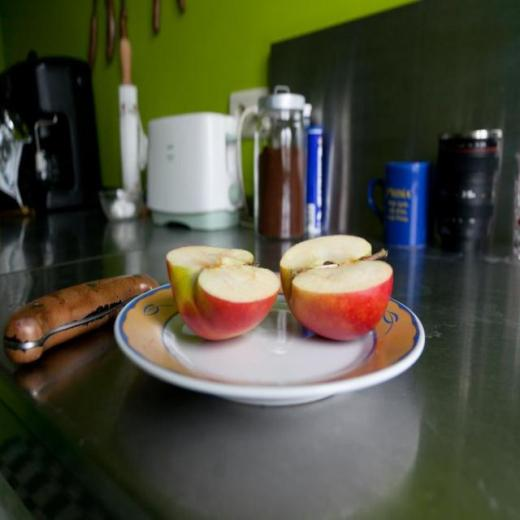Apple: (286, 237, 396, 345), (164, 243, 282, 340)
